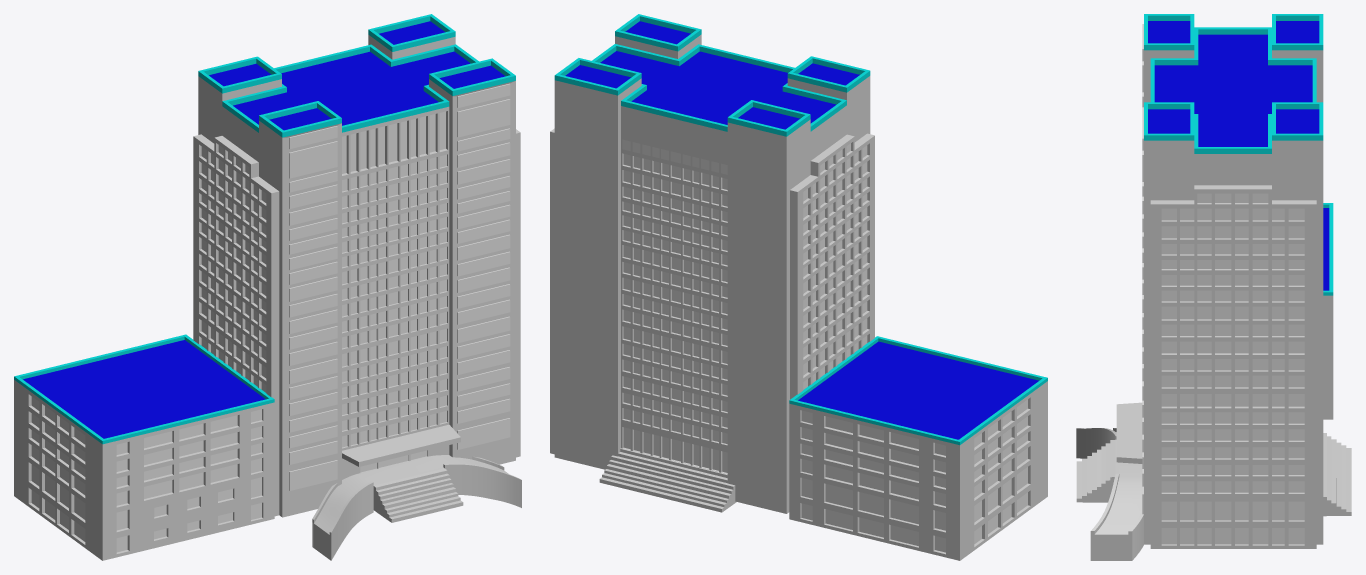
File: JianZhu02.fbx
The picture shows the model from 3 angles, left to right: view 1: azimuth 30°, elevation 25°; view 2: azimuth 150°, elevation 25°; view 3: azimuth 270°, elevation 25°; orthographic projection. The views are drawn at different scales.
Parts seen in each view (by area): view 1: polySurface1922, polySurface1965, polySurface1914, JianZhu02, polySurface1941, polySurface1940, polySurface1935, polySurface1942, polySurface1924; view 2: polySurface1922, polySurface1965, polySurface1914, JianZhu02, polySurface1941, polySurface1940, polySurface1935, polySurface1942; view 3: polySurface1922, polySurface1965, polySurface1940, JianZhu02, polySurface1935, polySurface1924, polySurface1914, polySurface1941, polySurface1942.
Boxes of the visible parts, x1,y1,x2,y2 form: polySurface1922: [193, 35, 520, 517]; polySurface1965: [201, 83, 510, 490]; polySurface1914: [14, 380, 274, 560]; JianZhu02: [31, 396, 521, 560]; polySurface1941: [23, 340, 265, 438]; polySurface1940: [209, 21, 505, 130]; polySurface1935: [198, 14, 515, 137]; polySurface1942: [14, 334, 274, 444]; polySurface1924: [342, 424, 460, 466]; polySurface1922: [550, 34, 874, 513]; polySurface1965: [622, 139, 867, 472]; polySurface1914: [789, 381, 1047, 560]; JianZhu02: [599, 399, 1027, 552]; polySurface1941: [798, 341, 1038, 439]; polySurface1940: [565, 21, 859, 129]; polySurface1935: [554, 14, 870, 136]; polySurface1942: [789, 336, 1047, 445]; polySurface1922: [1144, 50, 1323, 548]; polySurface1965: [1142, 24, 1304, 544]; polySurface1940: [1148, 21, 1319, 146]; JianZhu02: [1076, 428, 1351, 560]; polySurface1935: [1144, 14, 1323, 153]; polySurface1924: [1116, 402, 1142, 463]; polySurface1914: [1323, 295, 1333, 419]; polySurface1941: [1323, 208, 1329, 290]; polySurface1942: [1323, 203, 1333, 295].
Bounding box in the file's own units: 257 × 239 × 137.
